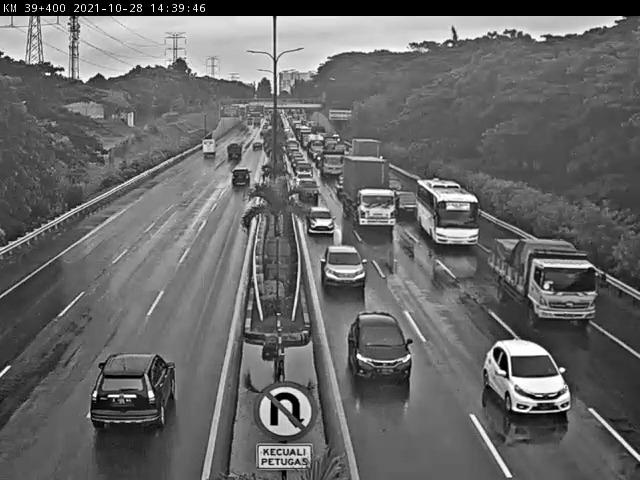big bus: (411, 167, 482, 254)
big truck: (340, 153, 400, 230), (348, 133, 385, 165)
car: (479, 335, 578, 424), (86, 350, 180, 434), (343, 305, 419, 391), (318, 239, 370, 291), (306, 202, 338, 236), (387, 186, 418, 220), (226, 170, 254, 196), (295, 173, 321, 200), (223, 143, 245, 163), (292, 168, 314, 186), (293, 157, 315, 172), (250, 140, 264, 152)
mid truck: (482, 231, 606, 329), (313, 147, 347, 179)
small truck: (198, 138, 218, 162)
